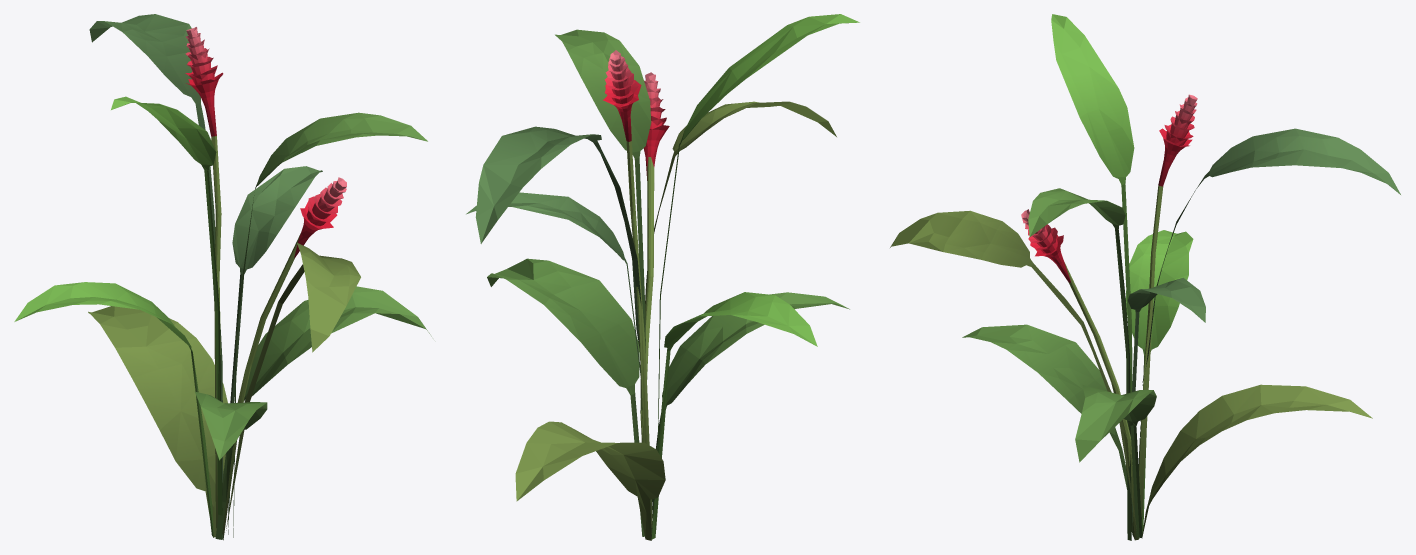
Rendered from Jungle_TallLeaf_A.fbx.
3 renders of one model, left to right at view 1: azimuth 30°, elevation 25°; view 2: azimuth 150°, elevation 25°; view 3: azimuth 270°, elevation 25°, orthographic. The views are drawn at different scales.
Parts seen in each view (by area): view 1: Jungle_TallLeaf_A; view 2: Jungle_TallLeaf_A; view 3: Jungle_TallLeaf_A.
Part boxes in pixels (bbox=[...]): Jungle_TallLeaf_A: bbox=[14, 14, 431, 540]; Jungle_TallLeaf_A: bbox=[466, 14, 859, 540]; Jungle_TallLeaf_A: bbox=[890, 14, 1400, 540].
Bounding box in the file's own units: 2 × 2.63 × 2.66.
Materials: 1 (1 with a texture image).
